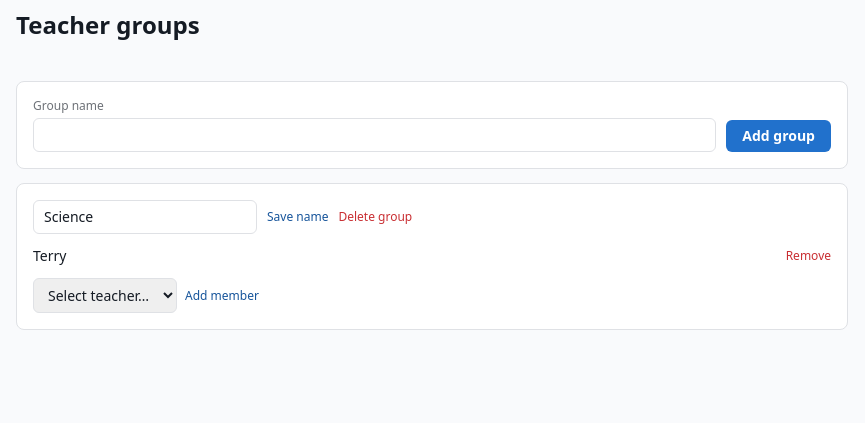
AdminGroupsPage › shows the API error message when a request fails
The image size is (865, 423).
Expected: the field named "Group name for Science" is shown, left=33, top=200, right=257, bottom=234
Type "Dupe" into the field named "New group name" at (375, 135), box left=33, top=118, right=716, bottom=152
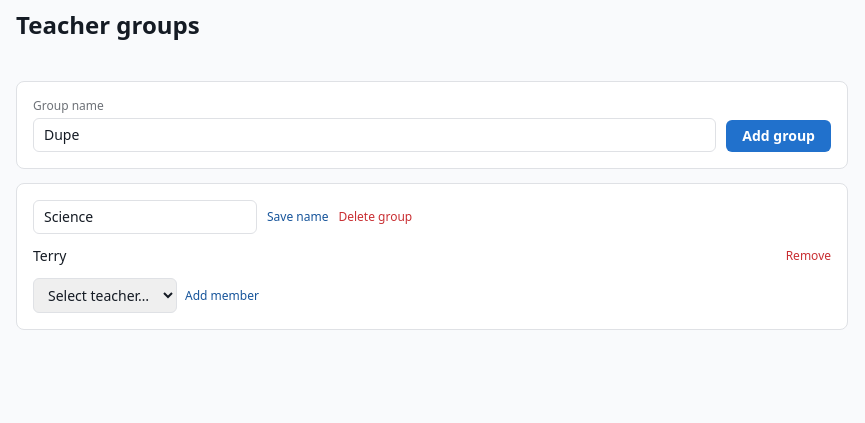
Click the button "Add group" at (779, 136), box left=726, top=120, right=831, bottom=152
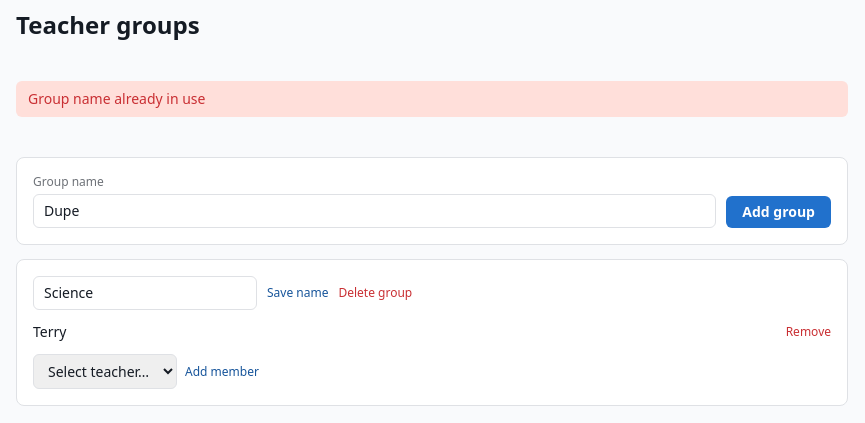
Now the message reads "Group name already in use", box left=28, top=89, right=206, bottom=108
